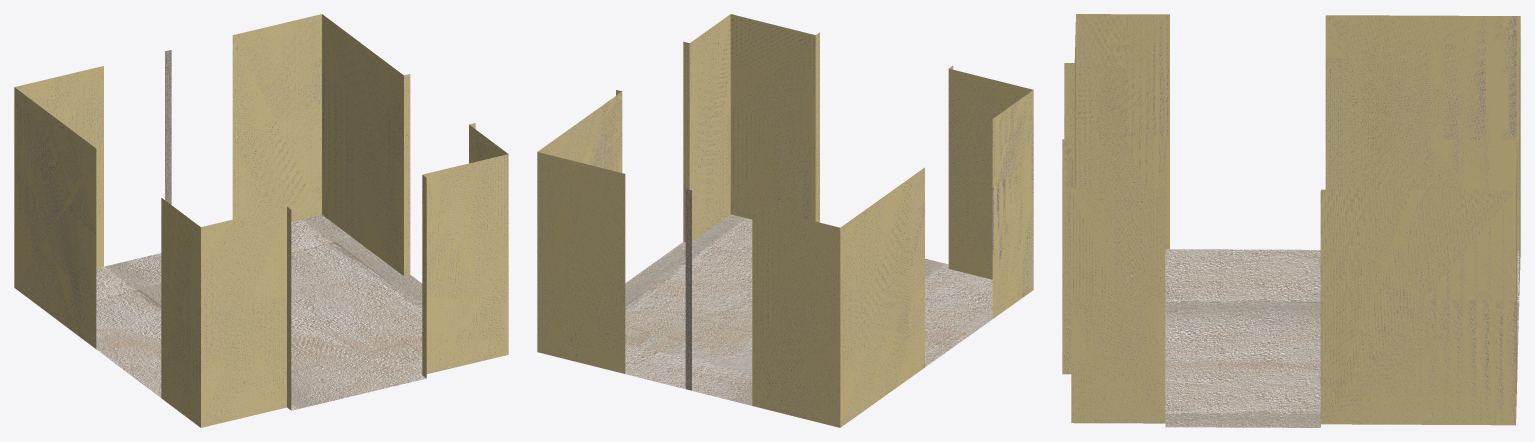
File: COM024.obj
3 renders of one model, left to right at view 1: azimuth 30°, elevation 25°; view 2: azimuth 150°, elevation 25°; view 3: azimuth 270°, elevation 25°, orthographic. The views are drawn at different scales.
Parts seen in each view (by area): view 1: Mesh1 COM024 Model; view 2: Mesh1 COM024 Model; view 3: Mesh1 COM024 Model.
Part boxes in pixels (x1,y1,x2,y2): Mesh1 COM024 Model: [14, 14, 508, 427]; Mesh1 COM024 Model: [537, 14, 1033, 427]; Mesh1 COM024 Model: [1062, 14, 1520, 427].
Bounding box in the file's own units: 4.91 × 3 × 5.31.
Materials: 4 (2 with a texture image).
